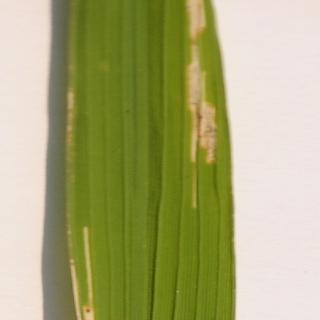Hawar-Daun: (170, 0, 225, 196), (61, 76, 99, 320)
